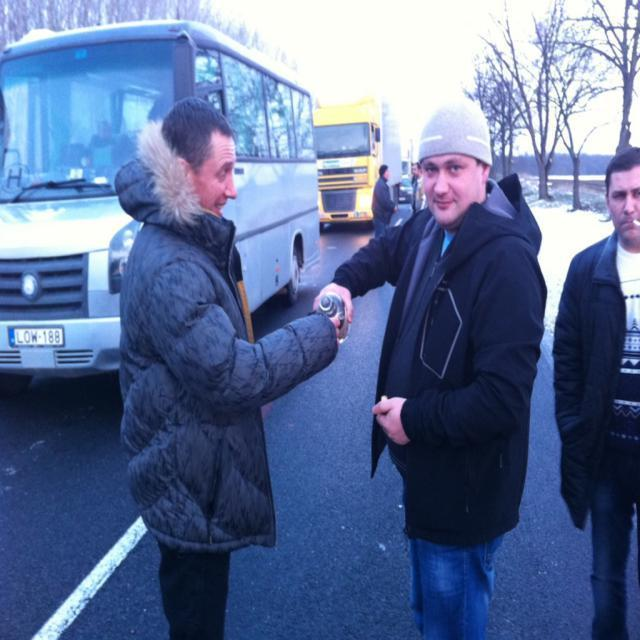closed-mouth: (434, 201, 453, 208)
